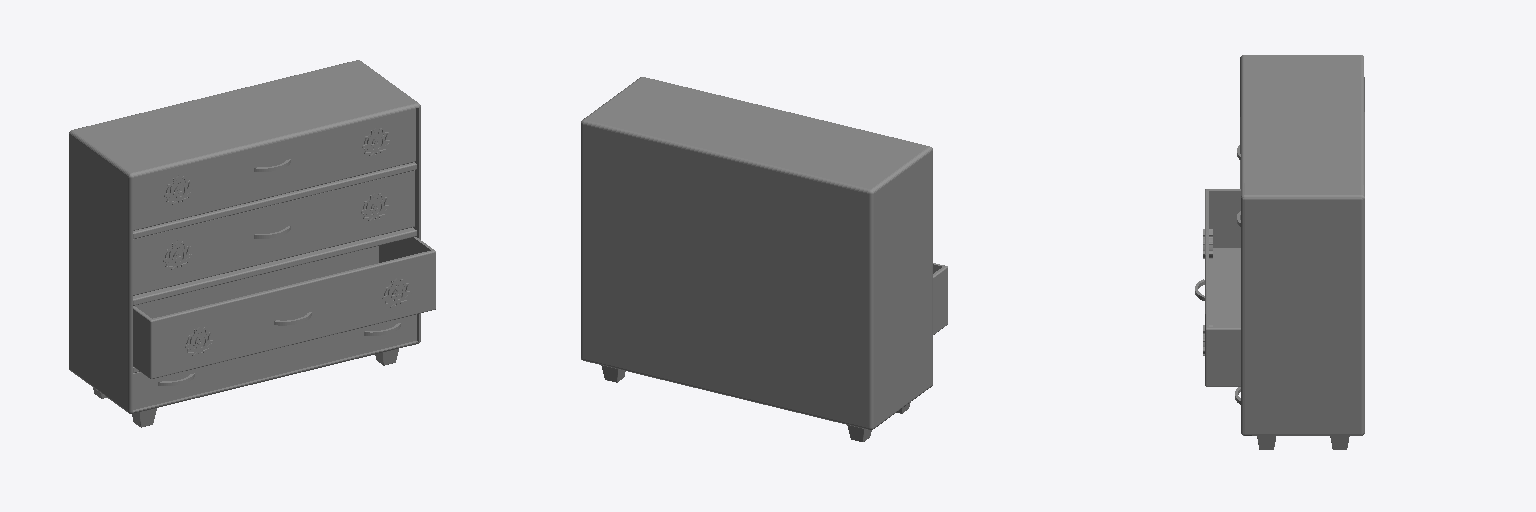
Rendered from Mueblepeque.obj.
The picture shows the model from 3 angles: view 1: azimuth 30°, elevation 25°; view 2: azimuth 150°, elevation 25°; view 3: azimuth 270°, elevation 25°; orthographic projection.
Visible parts, largest first — view 1: MainBody, Dr3, DR002, DR1, Cube_7, Cube_4, Cube_1, Drawer2Decor_2, Drawe1decor001, Drawe1decor; view 2: MainBody, Dr3; view 3: MainBody, Dr3.
Part boxes in pixels (bbox=[...]): MainBody: bbox=[69, 60, 420, 413]; Dr3: bbox=[133, 237, 435, 378]; DR002: bbox=[133, 170, 414, 295]; DR1: bbox=[133, 108, 415, 230]; Cube_7: bbox=[133, 314, 416, 409]; Cube_4: bbox=[133, 227, 416, 305]; Cube_1: bbox=[133, 162, 416, 238]; Drawer2Decor_2: bbox=[185, 278, 411, 356]; Drawe1decor001: bbox=[163, 192, 389, 270]; Drawe1decor: bbox=[164, 127, 390, 205]; MainBody: bbox=[581, 77, 932, 429]; Dr3: bbox=[933, 263, 947, 334]; MainBody: bbox=[1240, 55, 1364, 435]; Dr3: bbox=[1205, 189, 1240, 386].
Bounding box in the file's own units: 13.08 × 11.18 × 6.58.